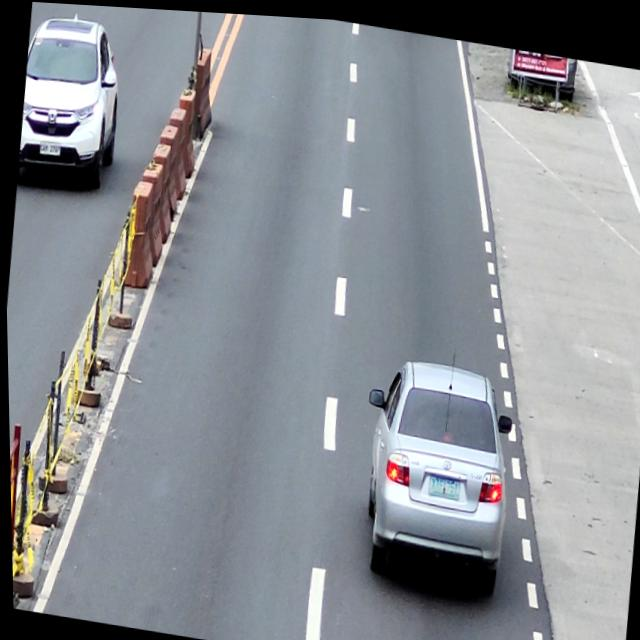Car: (347, 345, 519, 596), (13, 11, 127, 198)
License-Plate: (425, 468, 460, 496), (36, 139, 61, 156)
